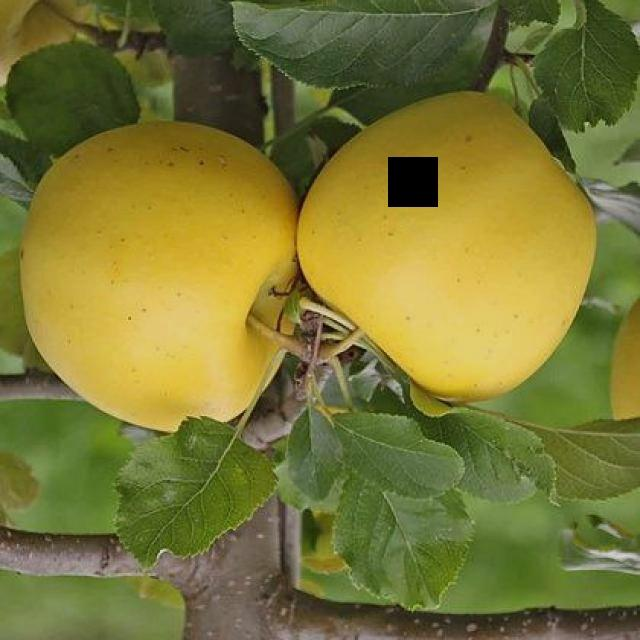green apple: (17, 102, 302, 432), (304, 93, 599, 410)
